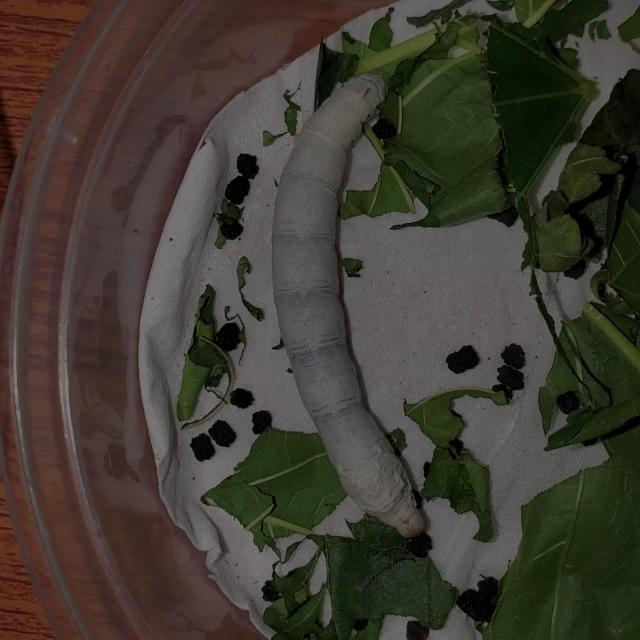Healthy: (249, 45, 462, 547)
